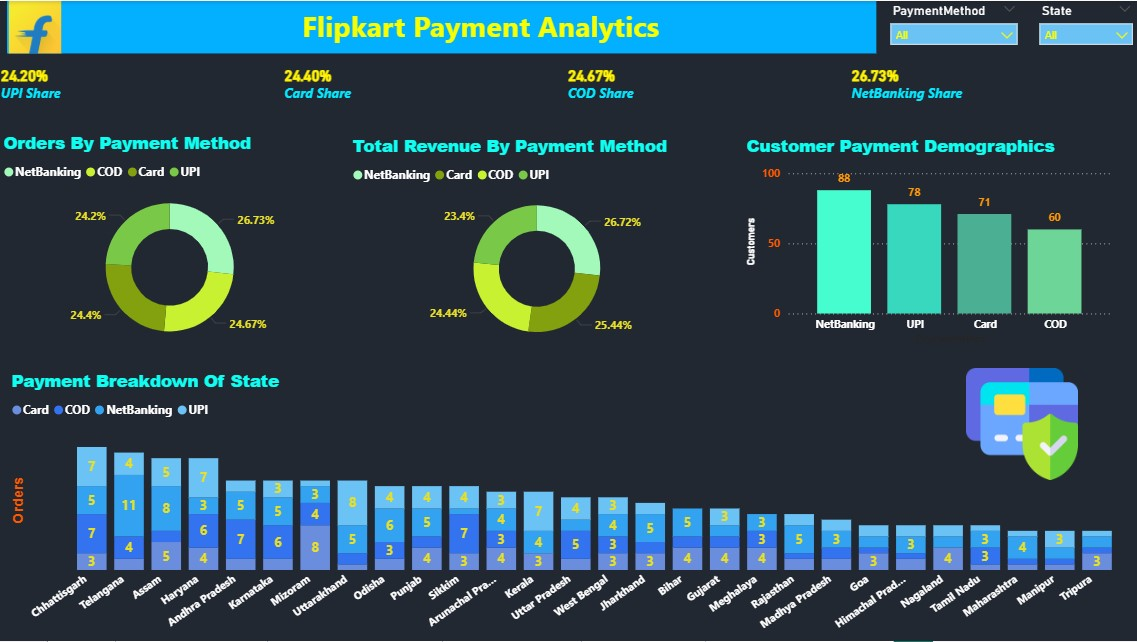

What the dashboard file says about the page in this screenshot:
{"tool":"powerbi","page":{"name":"Payment analytics","canvas":[1280,720],"ordinal":3},"visuals":[{"type":"textbox","box":[8.9,0,977.8,58.6],"z":0},{"type":"multiRowCard","fields":{"Values":["order_details.UPI Adoption Rate","order_details.Card Share","order_details.COD Share","order_details.NetBanking Adoption Rate"]},"box":[0,73.9,1280,47.2],"z":1000},{"type":"image","box":[8.9,0,62.5,58.6],"z":2000},{"type":"columnChart","title":"Customer Payment Demographics","fields":{"Category":["orders.PaymentMethod"],"Y":["CountNonNull(orders.CustomerID)"]},"box":[835.7,148.4,421.1,242.1],"z":3000},{"type":"donutChart","title":"Orders By Payment Method ","fields":{"Category":["orders.PaymentMethod"],"Y":["order_details.Total Orders"]},"box":[0,144.9,384,253.3],"z":4000},{"type":"columnChart","title":"Payment Breakdown Of State","fields":{"Category":["customers.State"],"Y":["CountNonNull(orders.OrderID)"],"Series":["orders.PaymentMethod"]},"box":[8.9,412.4,1264.9,307.6],"z":5000},{"type":"donutChart","title":"Total Revenue By Payment Method ","fields":{"Category":["orders.PaymentMethod"],"Y":["order_details.Total Revenue"]},"box":[392.9,148.4,424.9,249.8],"z":6000},{"type":"slicer","fields":{"Values":["orders.PaymentMethod"]},"box":[998.2,2.7,152.9,52.4],"z":7000},{"type":"slicer","fields":{"Values":["customers.State"]},"box":[1165.3,2.7,114.7,52.4],"z":8000},{"type":"image","box":[1033.9,413.1,234.6,126.2],"z":8001}]}

Visuals, with their boxes in screenshot pixels (x1, y1, x2, y2), scaled from the page's 1280x720 canvas onto the 1137x642 screenshot:
textbox: bbox=[8, 0, 876, 52]
multiRowCard - order_details.UPI Adoption Rate x order_details.Card Share: bbox=[0, 66, 1136, 108]
image: bbox=[8, 0, 63, 52]
"Customer Payment Demographics" columnChart: bbox=[742, 132, 1116, 348]
"Orders By Payment Method " donutChart: bbox=[0, 129, 341, 355]
"Payment Breakdown Of State" columnChart: bbox=[8, 368, 1131, 641]
"Total Revenue By Payment Method " donutChart: bbox=[349, 132, 726, 355]
slicer - orders.PaymentMethod: bbox=[887, 2, 1023, 49]
slicer - customers.State: bbox=[1035, 2, 1136, 49]
image: bbox=[918, 368, 1127, 481]
